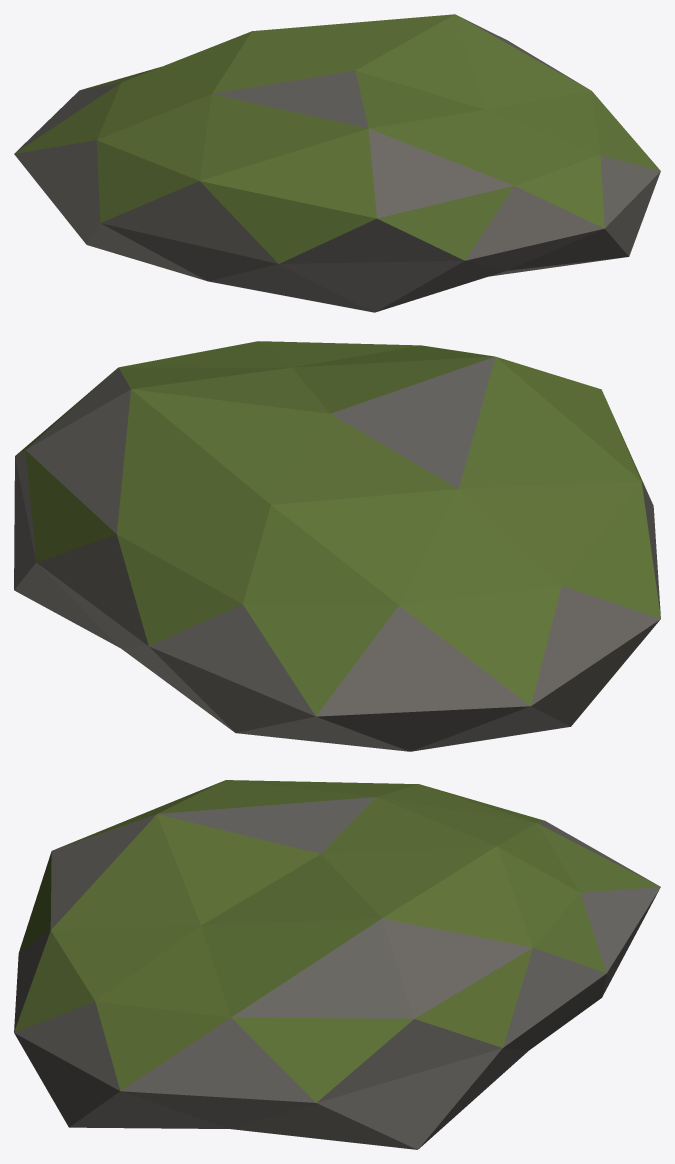
The model's file is UM_Felsbrocken_Flach.fbx.
3 renders of one model, top to bottom at view 1: azimuth 30°, elevation 25°; view 2: azimuth 150°, elevation 25°; view 3: azimuth 270°, elevation 25°, orthographic. The views are drawn at different scales.
Visible parts, largest first — view 1: UM_Felsbrocken_Flach; view 2: UM_Felsbrocken_Flach; view 3: UM_Felsbrocken_Flach.
Part boxes in pixels (bbox=[...]): UM_Felsbrocken_Flach: bbox=[14, 14, 660, 312]; UM_Felsbrocken_Flach: bbox=[14, 341, 660, 751]; UM_Felsbrocken_Flach: bbox=[14, 780, 660, 1149].
Size of the model in its own units: 4.42 by 1.5 by 4.23.
